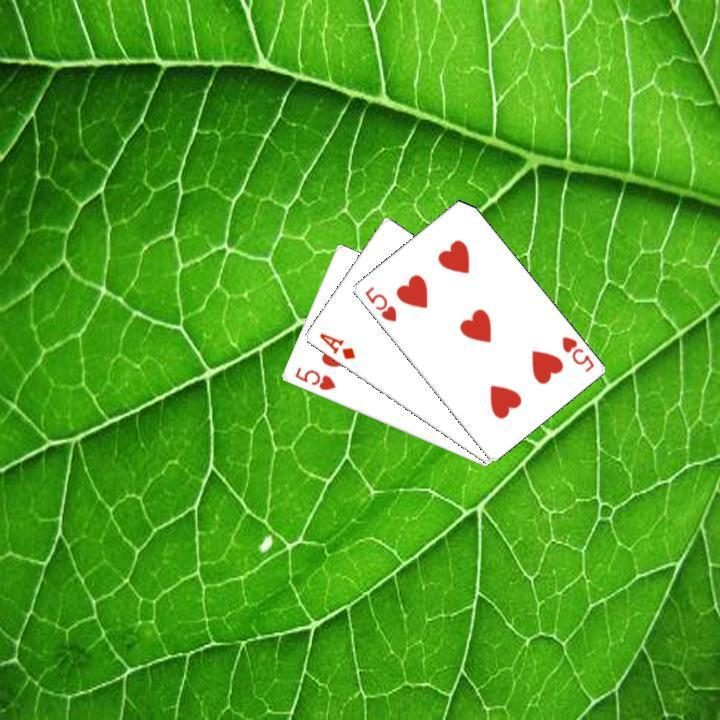5: (557, 332, 596, 374), (360, 282, 398, 324), (290, 362, 337, 393)
A: (314, 328, 357, 362)
